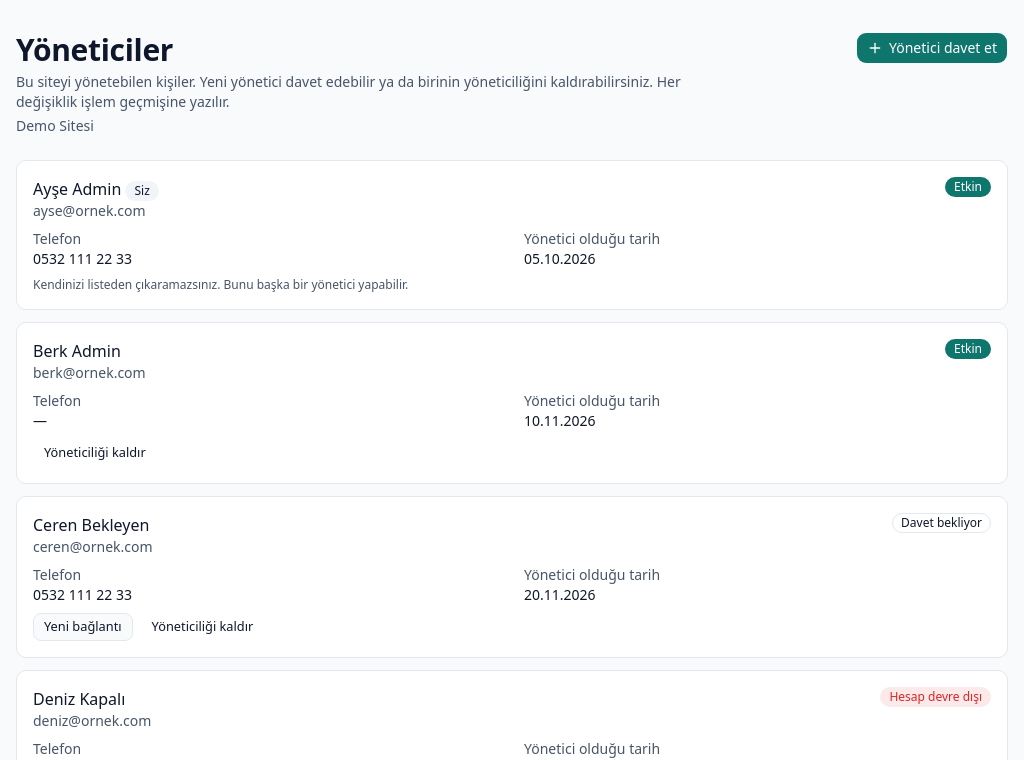
Test case: Yöneticiler: removing an admin › explains in Turkish when the database refuses, keeps the dialog open, and still loads the list again
Click the button with aria-label "Berk Admin yöneticiliğini kaldır" at x=95, y=453, box left=33, top=439, right=157, bottom=467
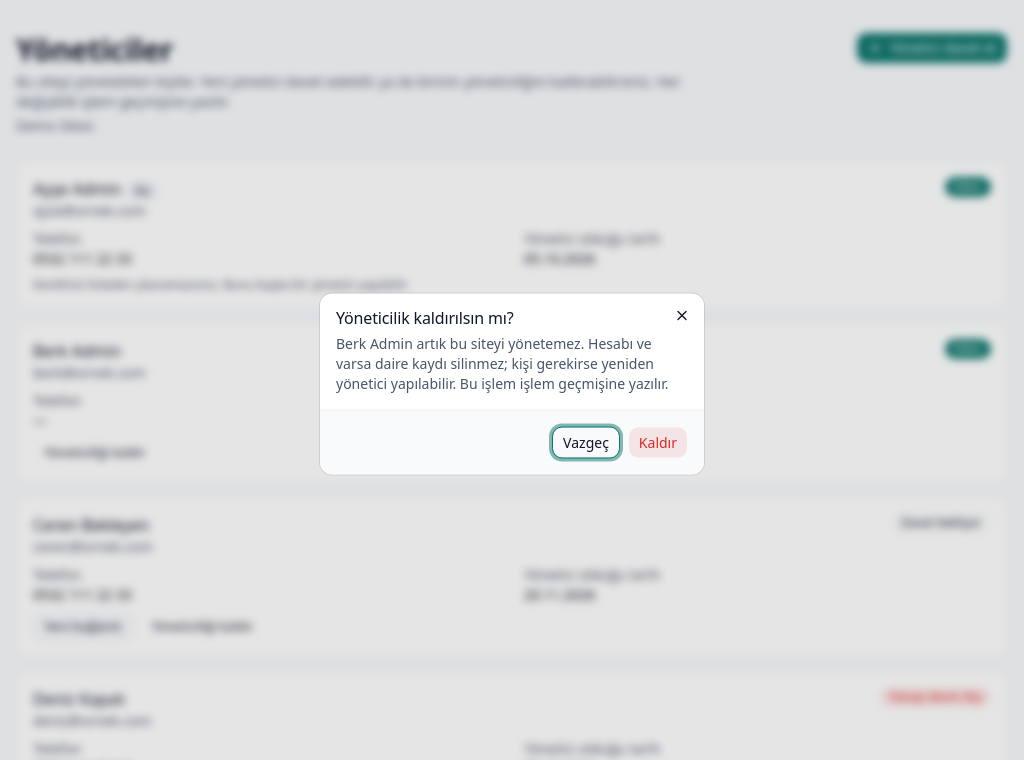
Click the button "Kaldır" at x=658, y=442, box left=628, top=426, right=688, bottom=458
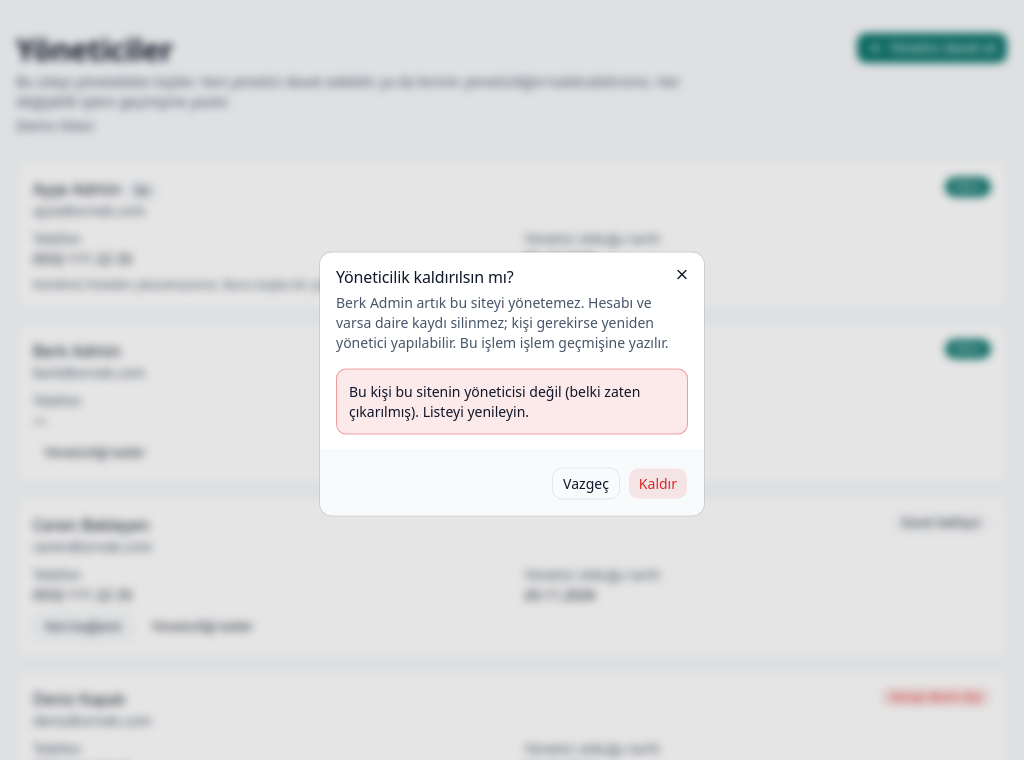
Now the text "yöneticisi değil" is shown, box left=349, top=382, right=640, bottom=420
